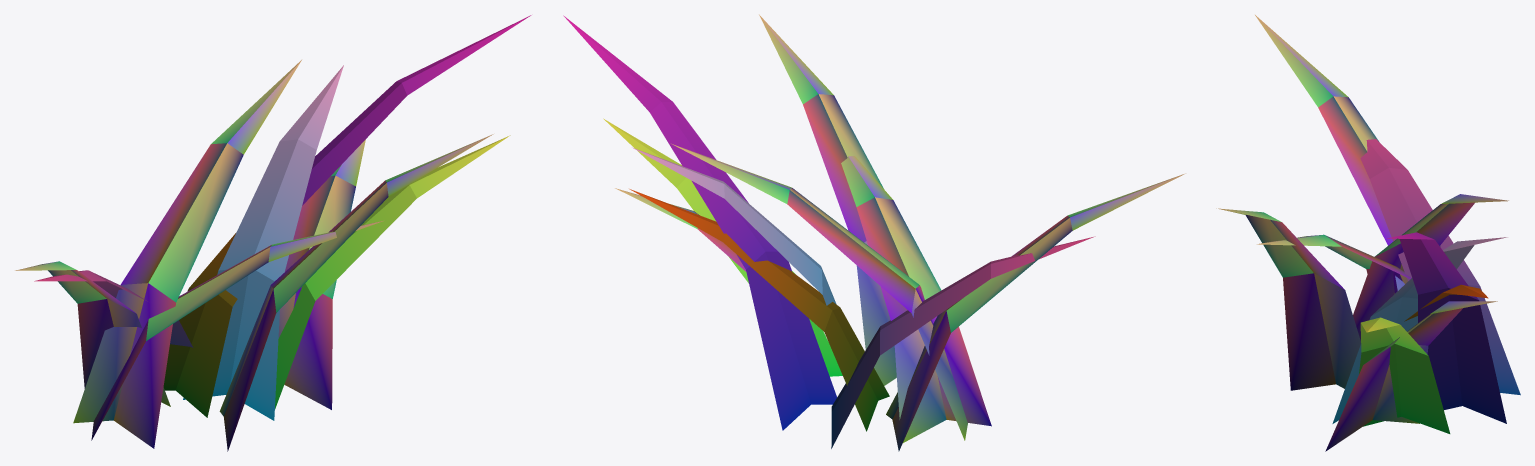
Rendered from SM_WF_GrassFan.fbx.
The picture shows the model from 3 angles, left to right: view 1: azimuth 30°, elevation 25°; view 2: azimuth 150°, elevation 25°; view 3: azimuth 270°, elevation 25°; orthographic projection. The views are drawn at different scales.
Parts seen in each view (by area): view 1: SM_WF_GrassFan; view 2: SM_WF_GrassFan; view 3: SM_WF_GrassFan.
Boxes of the visible parts, x1,y1,x2,y2 form: SM_WF_GrassFan: (15,15,531,451); SM_WF_GrassFan: (563,14,1185,451); SM_WF_GrassFan: (1216,15,1520,451).
Bounding box in the file's own units: 44.97 × 19.63 × 23.48.
